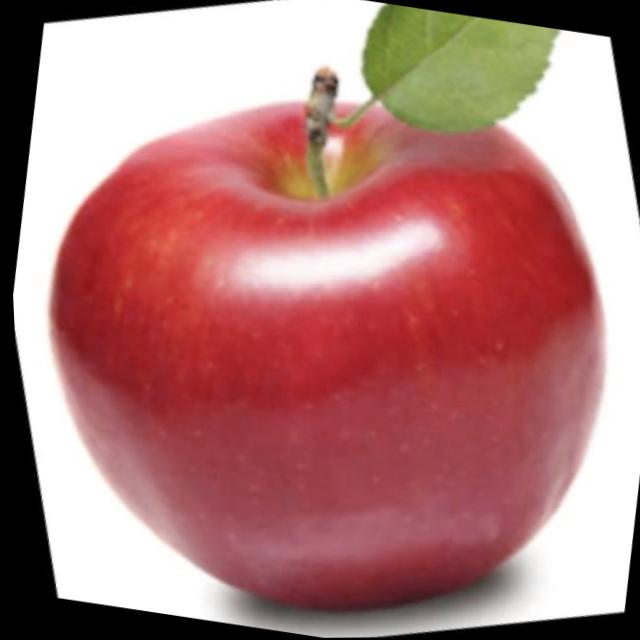Apple: (1, 27, 640, 640)
